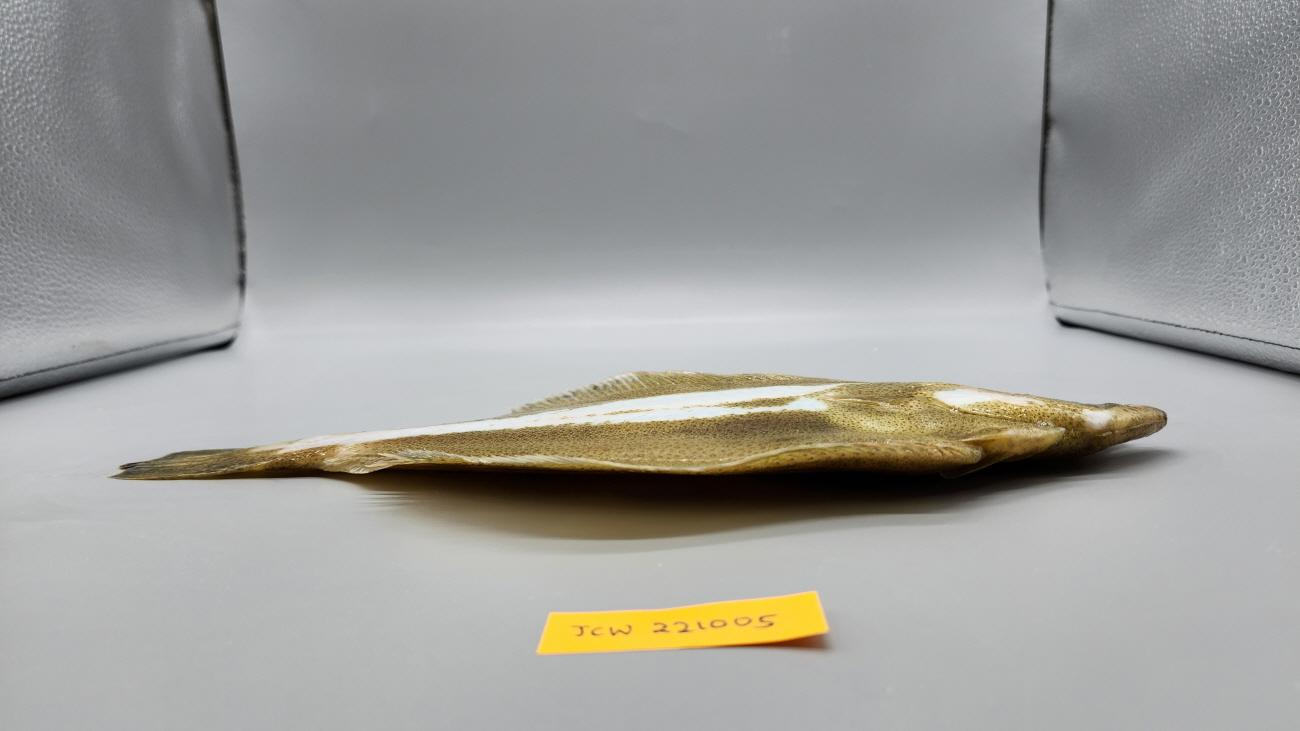POOUN: (109, 374, 1170, 480)
